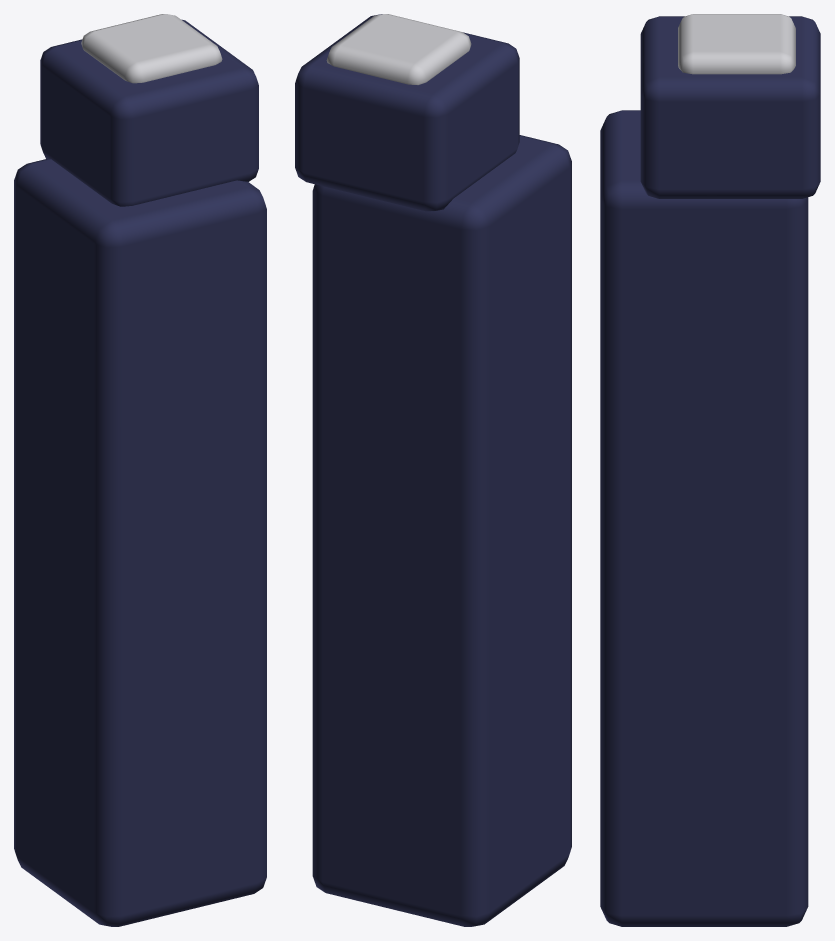
The model's file is hull.corner.k-1.25.t1.85.glb.
3 renders of one model, left to right at view 1: azimuth 30°, elevation 25°; view 2: azimuth 150°, elevation 25°; view 3: azimuth 270°, elevation 25°, orthographic. The views are drawn at different scales.
Visible parts, largest first — view 1: hull.corner.k-1.25.t1.85; view 2: hull.corner.k-1.25.t1.85; view 3: hull.corner.k-1.25.t1.85.
Boxes of the visible parts, x1=… form: hull.corner.k-1.25.t1.85: x1=14, y1=14, x2=266, y2=926; hull.corner.k-1.25.t1.85: x1=295, y1=14, x2=571, y2=926; hull.corner.k-1.25.t1.85: x1=600, y1=14, x2=820, y2=926.
Bounding box in the file's own units: 0.71 × 3.1 × 0.71.
